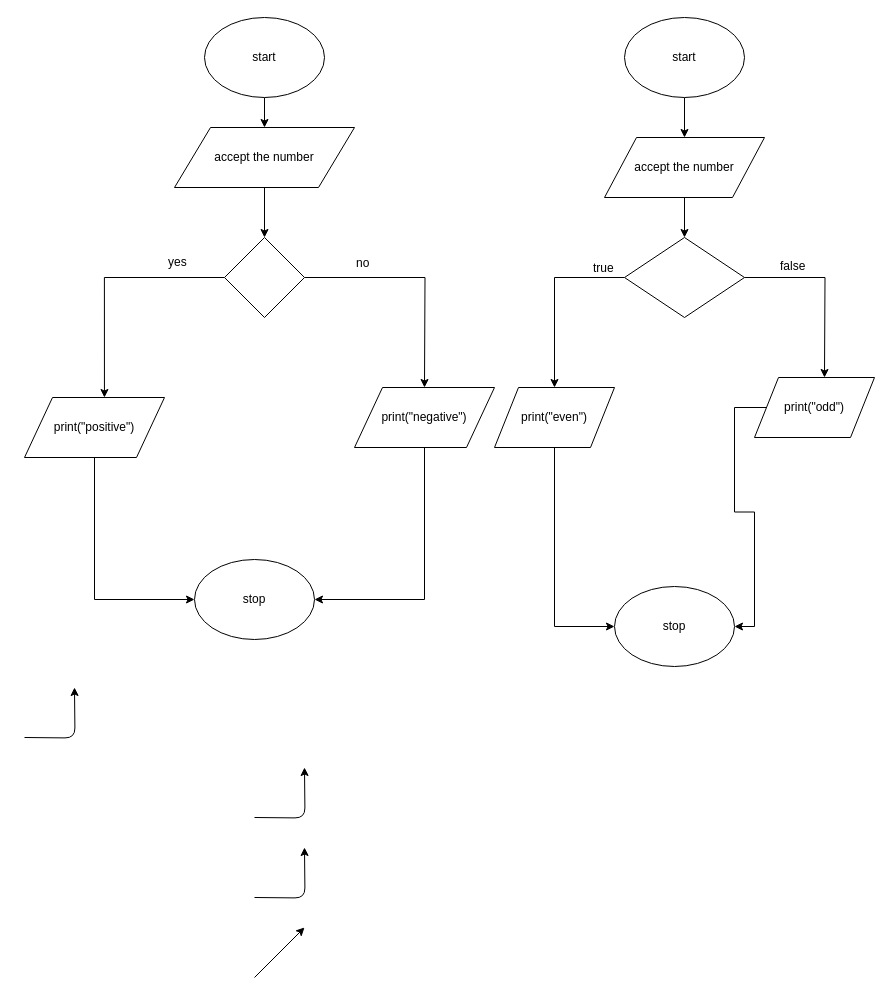
Some shapes in this 892 by 1003 pixel diagram are drawn without their labels. The box of each missing label's shape, as (x1, y1, x2, y2) in pixels:
if number%2=0: (624, 236, 744, 318)
if number>=0: (224, 236, 304, 318)
